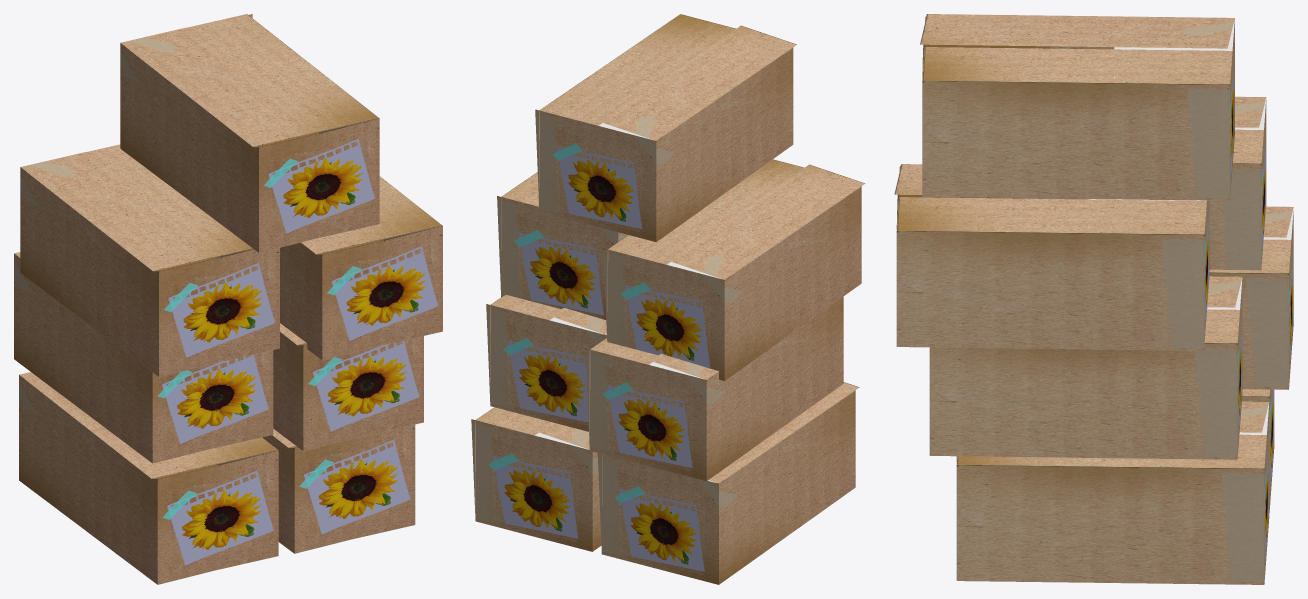
The model's file is cajas_girasoles.glb.
The picture shows the model from 3 angles, left to right: view 1: azimuth 30°, elevation 25°; view 2: azimuth 150°, elevation 25°; view 3: azimuth 270°, elevation 25°; orthographic projection. The views are drawn at different scales.
Visible parts, largest first — view 1: Cube.006, Cube.007, Cube.001, Cube.005, Cube.003, Cube, Cube.004; view 2: Cube.006, Cube.007, Cube.001, Cube.005, Cube, Cube.004, Cube.003; view 3: Cube.006, Cube.003, Cube, Cube.004, Cube.005, Cube.007, Cube.001.
Part boxes in pixels (x1,y1,x2,y2): Cube.006: [120, 14, 379, 252]; Cube.007: [20, 144, 279, 377]; Cube.001: [19, 372, 278, 584]; Cube.005: [14, 252, 273, 463]; Cube.003: [280, 176, 442, 360]; Cube: [262, 424, 415, 553]; Cube.004: [273, 323, 423, 451]; Cube.006: [535, 14, 796, 241]; Cube.007: [603, 159, 865, 380]; Cube.001: [597, 382, 859, 584]; Cube.005: [585, 296, 843, 481]; Cube: [471, 407, 601, 551]; Cube.004: [486, 294, 606, 431]; Cube.003: [497, 172, 627, 319]; Cube.006: [920, 14, 1234, 200]; Cube.003: [894, 164, 1209, 350]; Cube: [956, 401, 1269, 584]; Cube.004: [929, 276, 1242, 459]; Cube.005: [1209, 206, 1293, 389]; Cube.007: [1209, 96, 1266, 270]; Cube.001: [1242, 389, 1274, 512].
Bounding box in the file's own units: 2.35 × 3.56 × 2.7.
3 materials, 3 textured.
